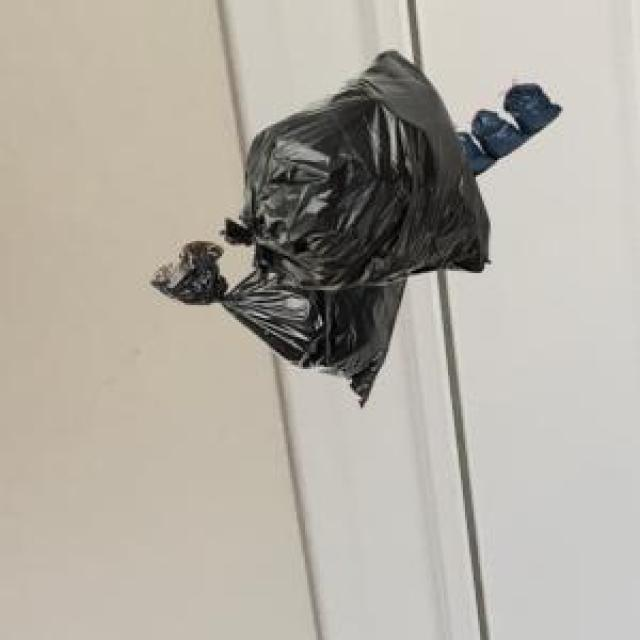Vinyl: (152, 51, 559, 403)
